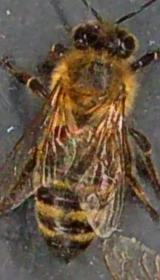varroa_mite: (50, 120, 74, 144)
